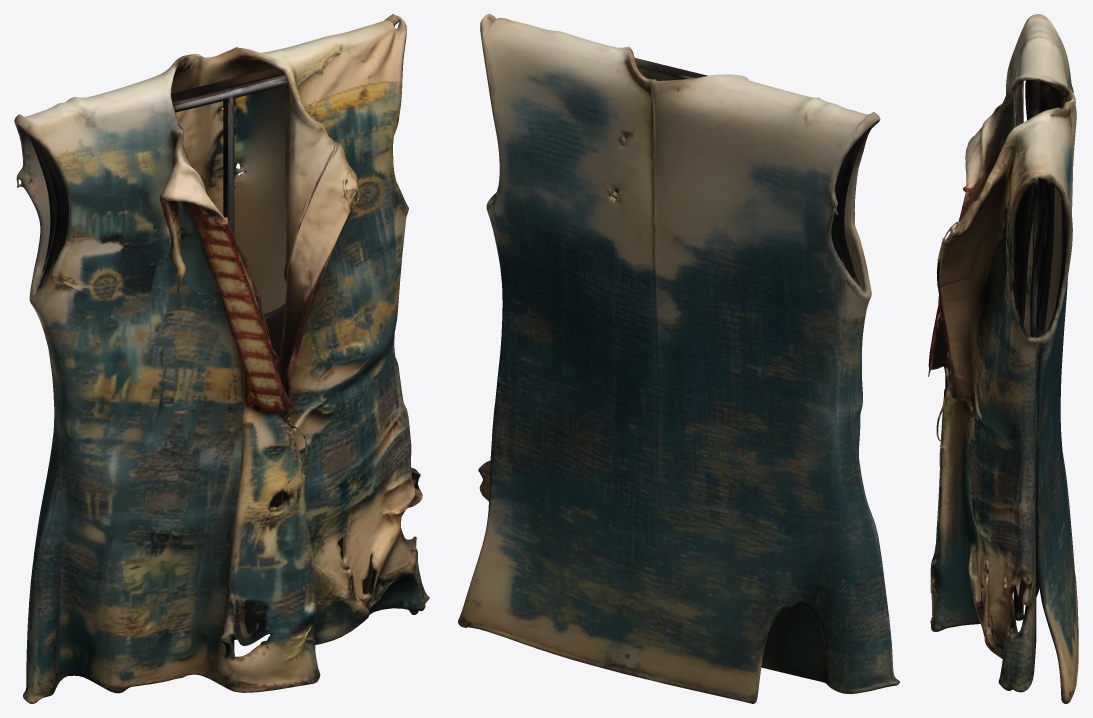
The model's file is Rompi.glb.
The picture shows the model from 3 angles, left to right: view 1: azimuth 30°, elevation 25°; view 2: azimuth 150°, elevation 25°; view 3: azimuth 270°, elevation 25°; orthographic projection. The views are drawn at different scales.
Visible parts, largest first — view 1: node_0; view 2: node_0; view 3: node_0.
Boxes of the visible parts, x1,y1,x2,y2 form: node_0: [14, 14, 429, 703]; node_0: [458, 14, 899, 703]; node_0: [928, 14, 1078, 703].
Size of the model in its own units: 0.225 by 0.314 by 0.081.
1 material, 1 textured.
